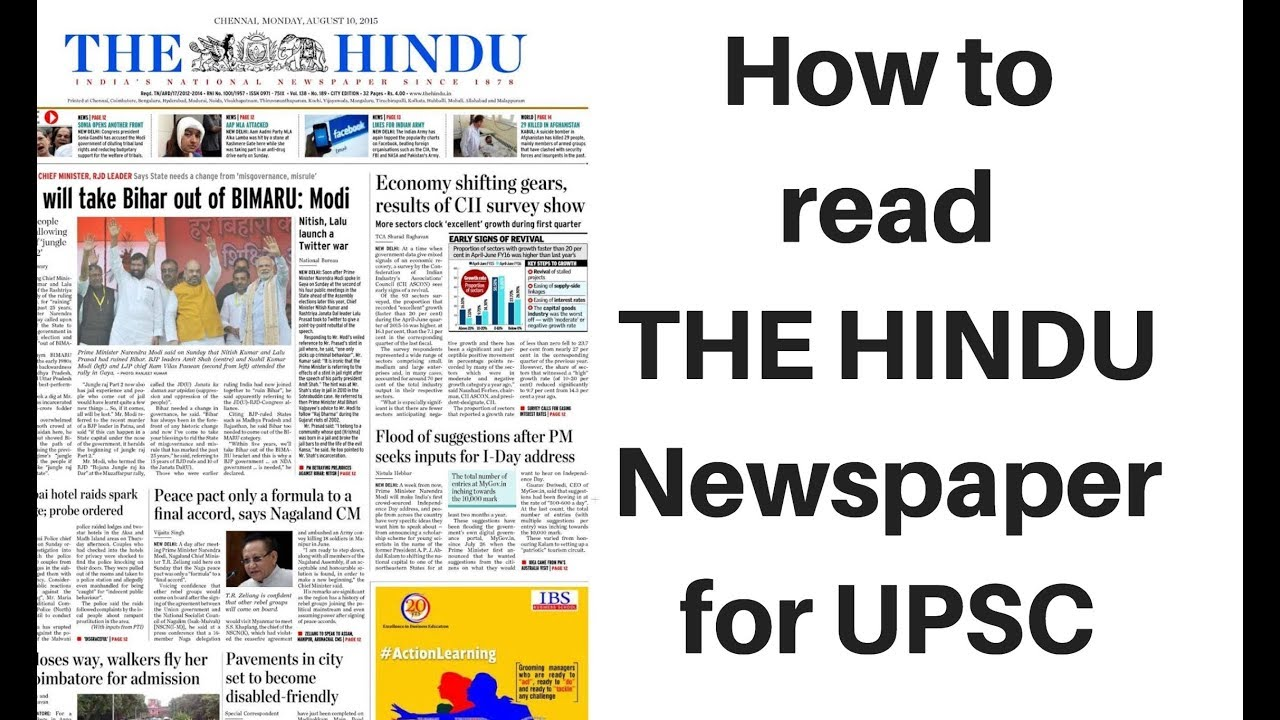news_paper: (13, 1, 1271, 720)
